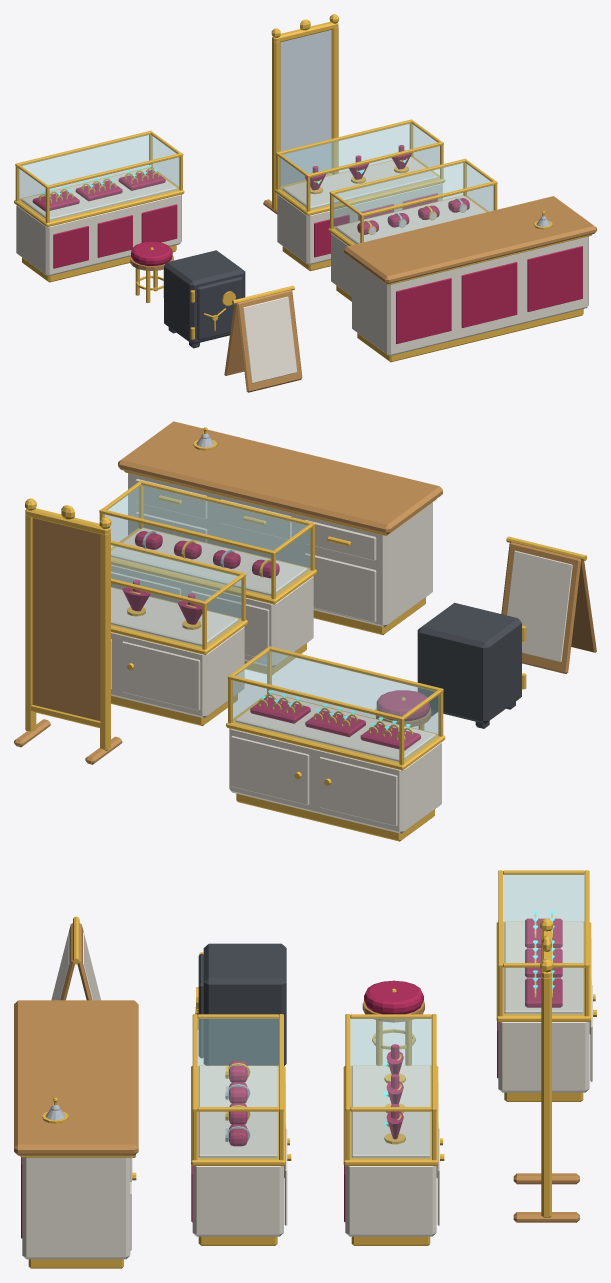
Rendered from jewellery-store-set.glb.
3 renders of one model, top to bottom at view 1: azimuth 30°, elevation 25°; view 2: azimuth 150°, elevation 25°; view 3: azimuth 270°, elevation 25°, orthographic. The views are drawn at different scales.
Visible parts, largest first — view 1: Counter_Top, Counter, Counter_Body, Mirror_Pane, Rings_Cabinet, Rings_Glass_F, Safe_Body, Sign_Board_Front_Face, Watches_Glass_B, Rings_Glass_B, Rings_Glass_Top, Watches_Glass_Top (+39 smaller); view 2: Counter_Top, Mirror_Back, Counter_Body, Safe_Body, Rings_Glass_B, Watches_Glass_F, Rings_Glass_F, Rings_Cabinet, Watches_Glass_Top, Rings_Glass_Top, Sign_Board_Back_Face, Necklaces_Glass_F (+42 smaller); view 3: Counter_Top, Counter_Body, Safe_Body, Necklaces_Glass_Top, Watches_Glass_Top, Rings_Glass_Top, Watches_Cabinet, Necklaces_Cabinet, Necklaces_Deck, Rings_Cabinet, Watches_Deck, Rings_Deck (+26 smaller).
Boxes of the visible parts, x1=… form: Counter_Top: x1=344, y1=196, x2=596, y2=284; Counter: x1=396, y1=246, x2=582, y2=343; Counter_Body: x1=352, y1=236, x2=588, y2=356; Mirror_Pane: x1=280, y1=30, x2=331, y2=185; Rings_Cabinet: x1=16, y1=194, x2=181, y2=276; Rings_Glass_F: x1=50, y1=157, x2=179, y2=221; Safe_Body: x1=164, y1=250, x2=245, y2=344; Sign_Board_Front_Face: x1=243, y1=296, x2=297, y2=383; Watches_Glass_B: x1=334, y1=163, x2=462, y2=226; Rings_Glass_B: x1=20, y1=135, x2=148, y2=198; Rings_Glass_Top: x1=21, y1=134, x2=176, y2=184; Watches_Glass_Top: x1=336, y1=162, x2=491, y2=212; Counter_Top: x1=118, y1=421, x2=442, y2=534; Mirror_Back: x1=32, y1=518, x2=100, y2=720; Counter_Body: x1=128, y1=473, x2=432, y2=627; Safe_Body: x1=417, y1=602, x2=521, y2=723; Rings_Glass_B: x1=232, y1=681, x2=398, y2=762; Watches_Glass_F: x1=143, y1=486, x2=309, y2=568; Rings_Glass_F: x1=272, y1=652, x2=437, y2=733; Rings_Cabinet: x1=229, y1=728, x2=441, y2=833; Watches_Glass_Top: x1=107, y1=484, x2=307, y2=550; Rings_Glass_Top: x1=236, y1=650, x2=436, y2=716; Sign_Board_Back_Face: x1=507, y1=550, x2=572, y2=662; Necklaces_Glass_F: x1=111, y1=546, x2=240, y2=618; Counter_Top: x1=14, y1=1000, x2=138, y2=1155; Counter_Body: x1=22, y1=1157, x2=130, y2=1259; Safe_Body: x1=203, y1=943, x2=286, y2=1065; Necklaces_Glass_Top: x1=350, y1=1017, x2=431, y2=1106; Watches_Glass_Top: x1=198, y1=1017, x2=278, y2=1106; Rings_Glass_Top: x1=503, y1=873, x2=584, y2=963; Watches_Cabinet: x1=192, y1=1166, x2=283, y2=1236; Necklaces_Cabinet: x1=345, y1=1166, x2=436, y2=1236; Necklaces_Deck: x1=351, y1=1066, x2=430, y2=1157; Rings_Cabinet: x1=498, y1=1022, x2=589, y2=1092; Watches_Deck: x1=198, y1=1066, x2=277, y2=1157; Rings_Deck: x1=504, y1=922, x2=583, y2=1013.
Size of the model in its own units: 15.14 by 7.07 by 14.04.
